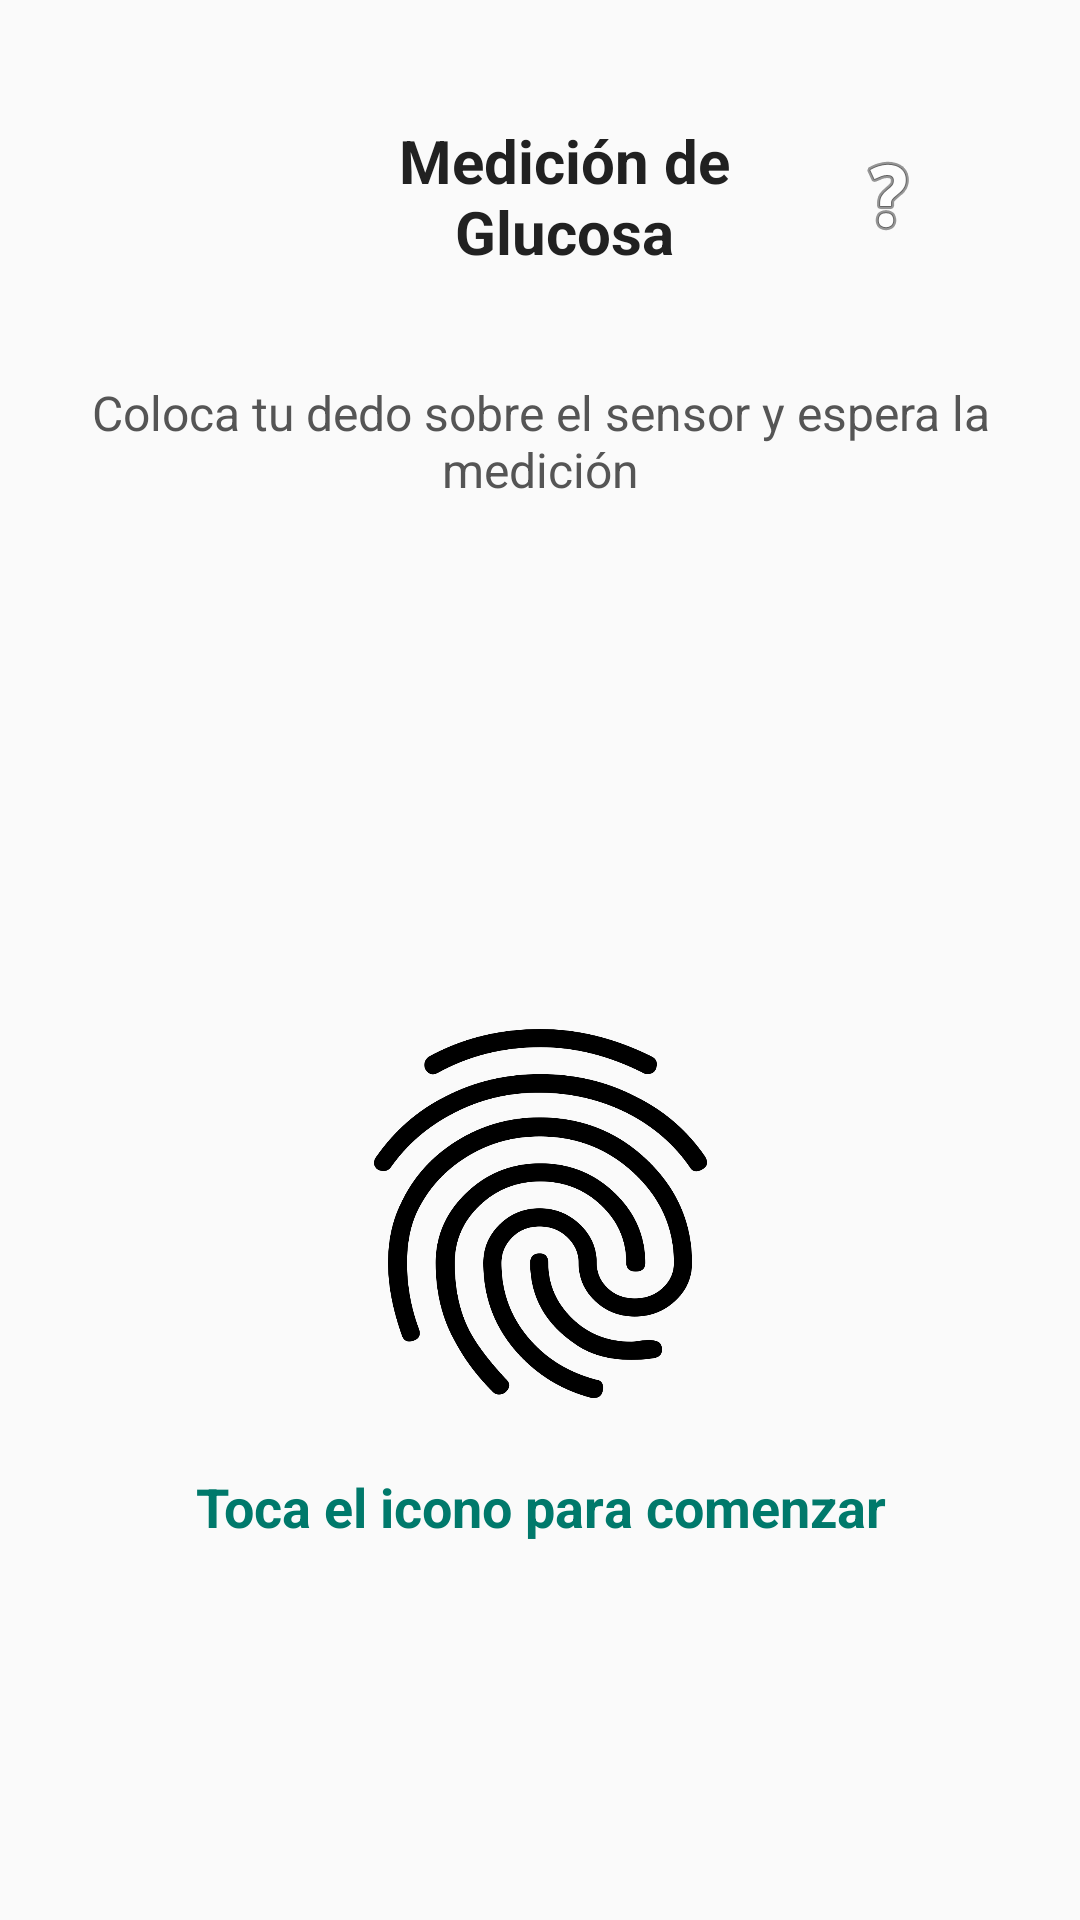

Icons on this 1080 x 1920 Android screen, each with its box as [x1, y1, x2, y2]:
Ayuda: [867, 162, 909, 230]
